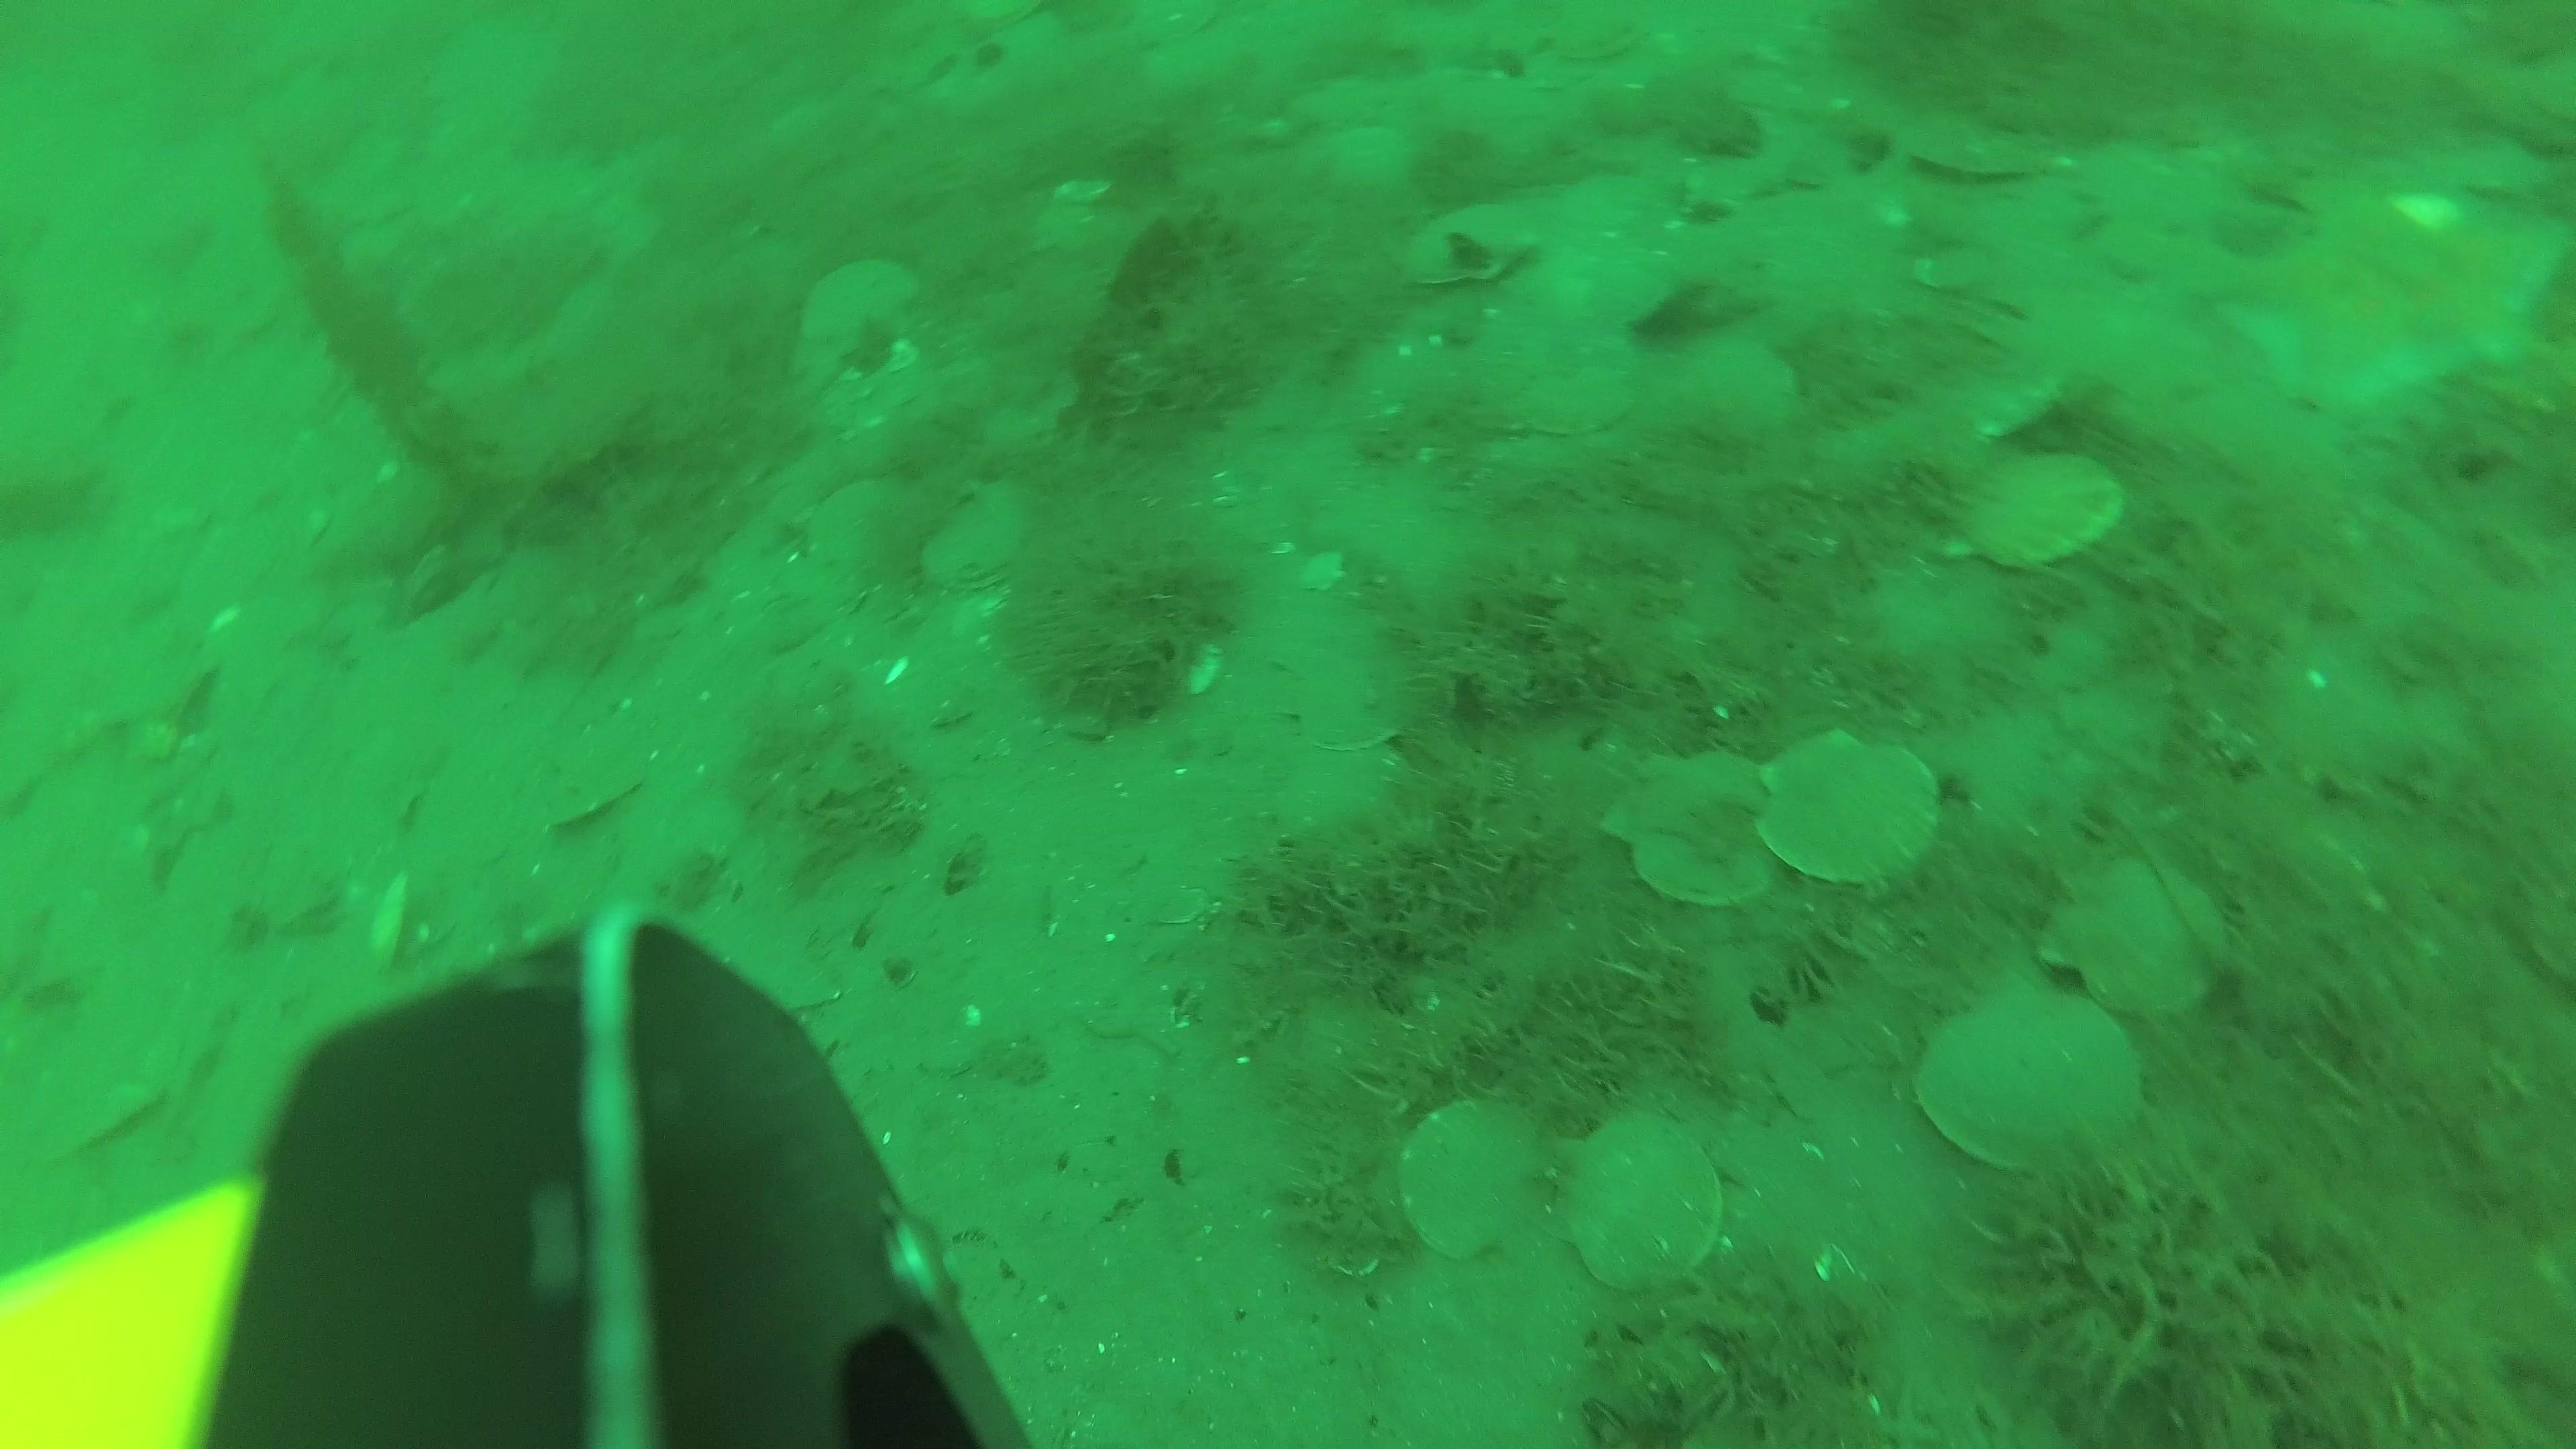scallop: (1913, 1005, 2143, 1175), (1757, 717, 1939, 899), (1606, 743, 1782, 915), (2043, 860, 2224, 1024), (1557, 1116, 1729, 1288), (1407, 1093, 1566, 1251), (1967, 455, 2121, 587), (1647, 336, 1794, 448), (1509, 331, 1647, 439), (801, 253, 931, 352), (800, 490, 927, 586), (932, 487, 1046, 591), (1907, 110, 2038, 195), (1403, 212, 1532, 288), (1672, 150, 1775, 225), (1552, 12, 1649, 64)
starfish: (2219, 186, 2564, 423)
